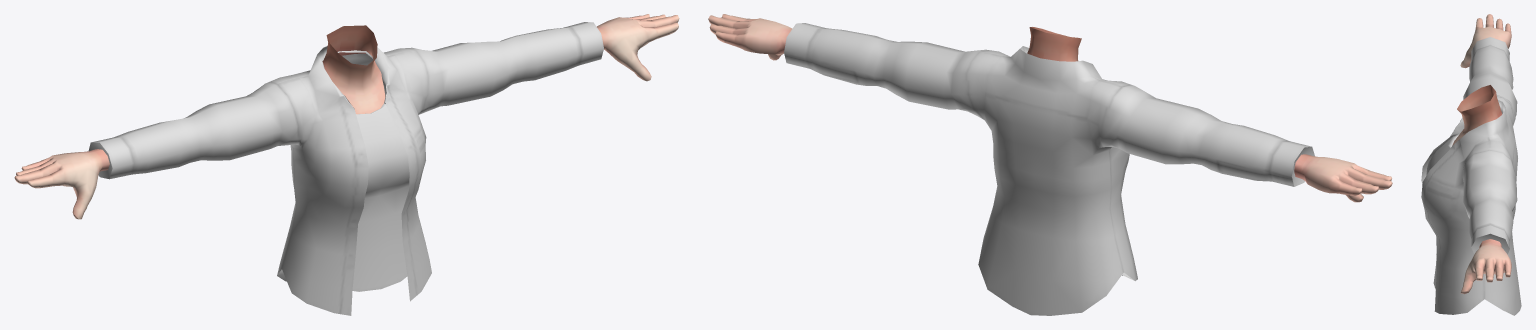
The model's file is tr0810_00_upb00.gltf.
3 renders of one model, left to right at view 1: azimuth 30°, elevation 25°; view 2: azimuth 150°, elevation 25°; view 3: azimuth 270°, elevation 25°, orthographic. The views are drawn at different scales.
Visible parts, largest first — view 1: upb00_upperbody_mesh_shape:upperbody00, upb00_upperskin_mesh_shape:upperbody00_skin; view 2: upb00_upperbody_mesh_shape:upperbody00, upb00_upperskin_mesh_shape:upperbody00_skin; view 3: upb00_upperbody_mesh_shape:upperbody00, upb00_upperskin_mesh_shape:upperbody00_skin.
Part boxes in pixels (x1=…): upb00_upperbody_mesh_shape:upperbody00: x1=88, y1=22, x2=603, y2=315; upb00_upperskin_mesh_shape:upperbody00_skin: x1=14, y1=14, x2=679, y2=219; upb00_upperbody_mesh_shape:upperbody00: x1=784, y1=23, x2=1314, y2=315; upb00_upperskin_mesh_shape:upperbody00_skin: x1=708, y1=14, x2=1392, y2=202; upb00_upperbody_mesh_shape:upperbody00: x1=1421, y1=37, x2=1521, y2=315; upb00_upperskin_mesh_shape:upperbody00_skin: x1=1452, y1=14, x2=1511, y2=294.
Size of what is drawn, in the model's own units: 1.63 by 0.6179 by 0.2614.
Materials: 2 (2 with a texture image).
